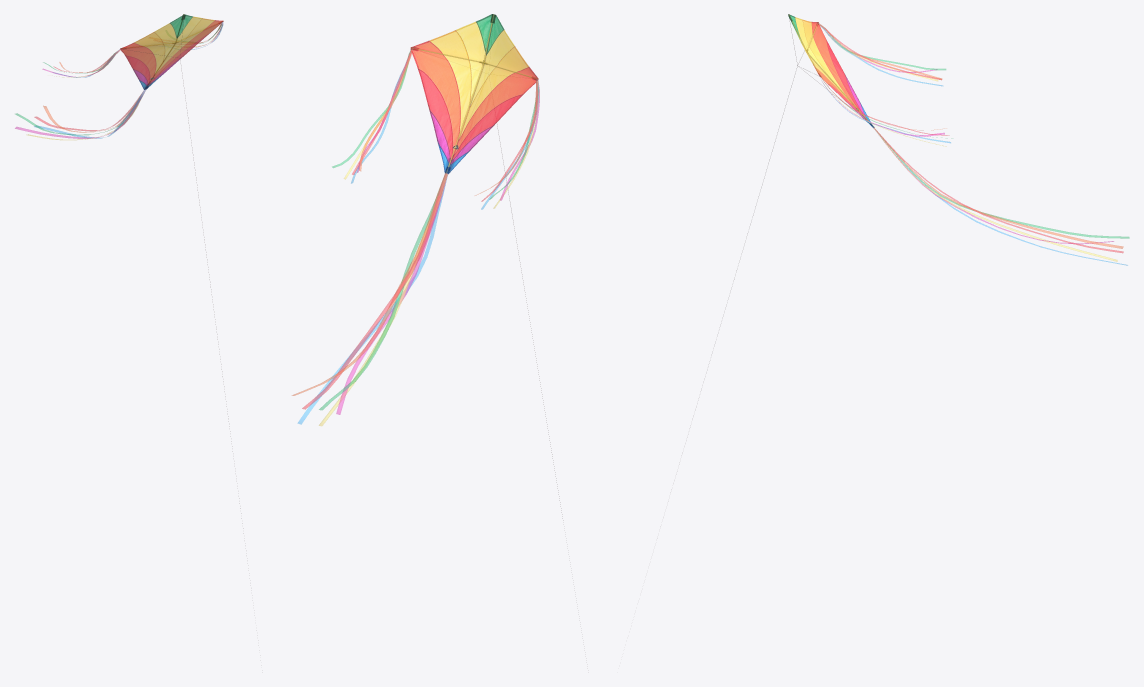
File: kite_final_version.compressed.glb
The picture shows the model from 3 angles, left to right: view 1: azimuth 30°, elevation 25°; view 2: azimuth 150°, elevation 25°; view 3: azimuth 270°, elevation 25°; orthographic projection. The views are drawn at different scales.
Parts seen in each view (by area): view 1: Kite_Main_Parent, Garland_Bottom; view 2: Kite_Main_Parent, Garland_Bottom, Plastic_Attachments; view 3: Garland_Bottom, Kite_Main_Parent.
Boxes of the visible parts, <box> form: Kite_Main_Parent: <box>120,14,223,89</box>; Garland_Bottom: <box>15,22,223,139</box>; Kite_Main_Parent: <box>411,14,538,173</box>; Garland_Bottom: <box>292,48,539,425</box>; Plastic_Attachments: <box>410,14,538,173</box>; Garland_Bottom: <box>818,23,1129,265</box>; Kite_Main_Parent: <box>788,15,872,126</box>.
Size of the model in its own units: 5.62 by 24.35 by 17.17.
4 materials, 4 textured.
